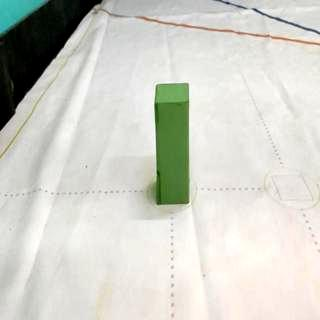greenbox: (152, 80, 192, 206)
